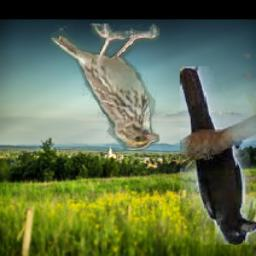Crow: (180, 67, 256, 246)
Sparrow: (51, 24, 159, 152)
